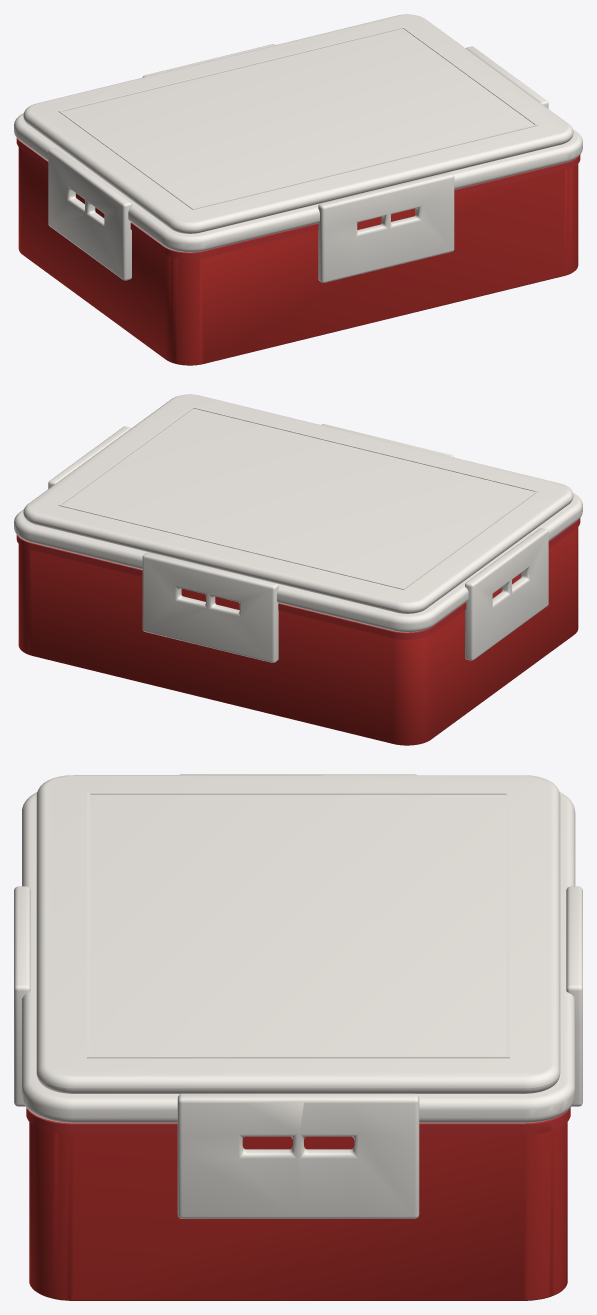
Rendered from lunch-box.glb.
The picture shows the model from 3 angles, top to bottom: view 1: azimuth 30°, elevation 25°; view 2: azimuth 150°, elevation 25°; view 3: azimuth 270°, elevation 25°; orthographic projection. The views are drawn at different scales.
Visible parts, largest first — view 1: Lid_White, Container_Red, Gasket_Lip; view 2: Lid_White, Container_Red, Gasket_Lip; view 3: Lid_White, Container_Red, Gasket_Lip.
Boxes of the visible parts, bbox=[...] form: Lid_White: bbox=[14, 14, 582, 282]; Container_Red: bbox=[18, 147, 578, 365]; Gasket_Lip: bbox=[16, 138, 580, 259]; Lid_White: bbox=[14, 394, 582, 662]; Container_Red: bbox=[18, 527, 578, 745]; Gasket_Lip: bbox=[16, 518, 580, 639]; Lid_White: bbox=[14, 774, 582, 1218]; Container_Red: bbox=[29, 1122, 567, 1300]; Gasket_Lip: bbox=[26, 1108, 570, 1134].
Bounding box in the file's own units: 208 × 65.28 × 153.
